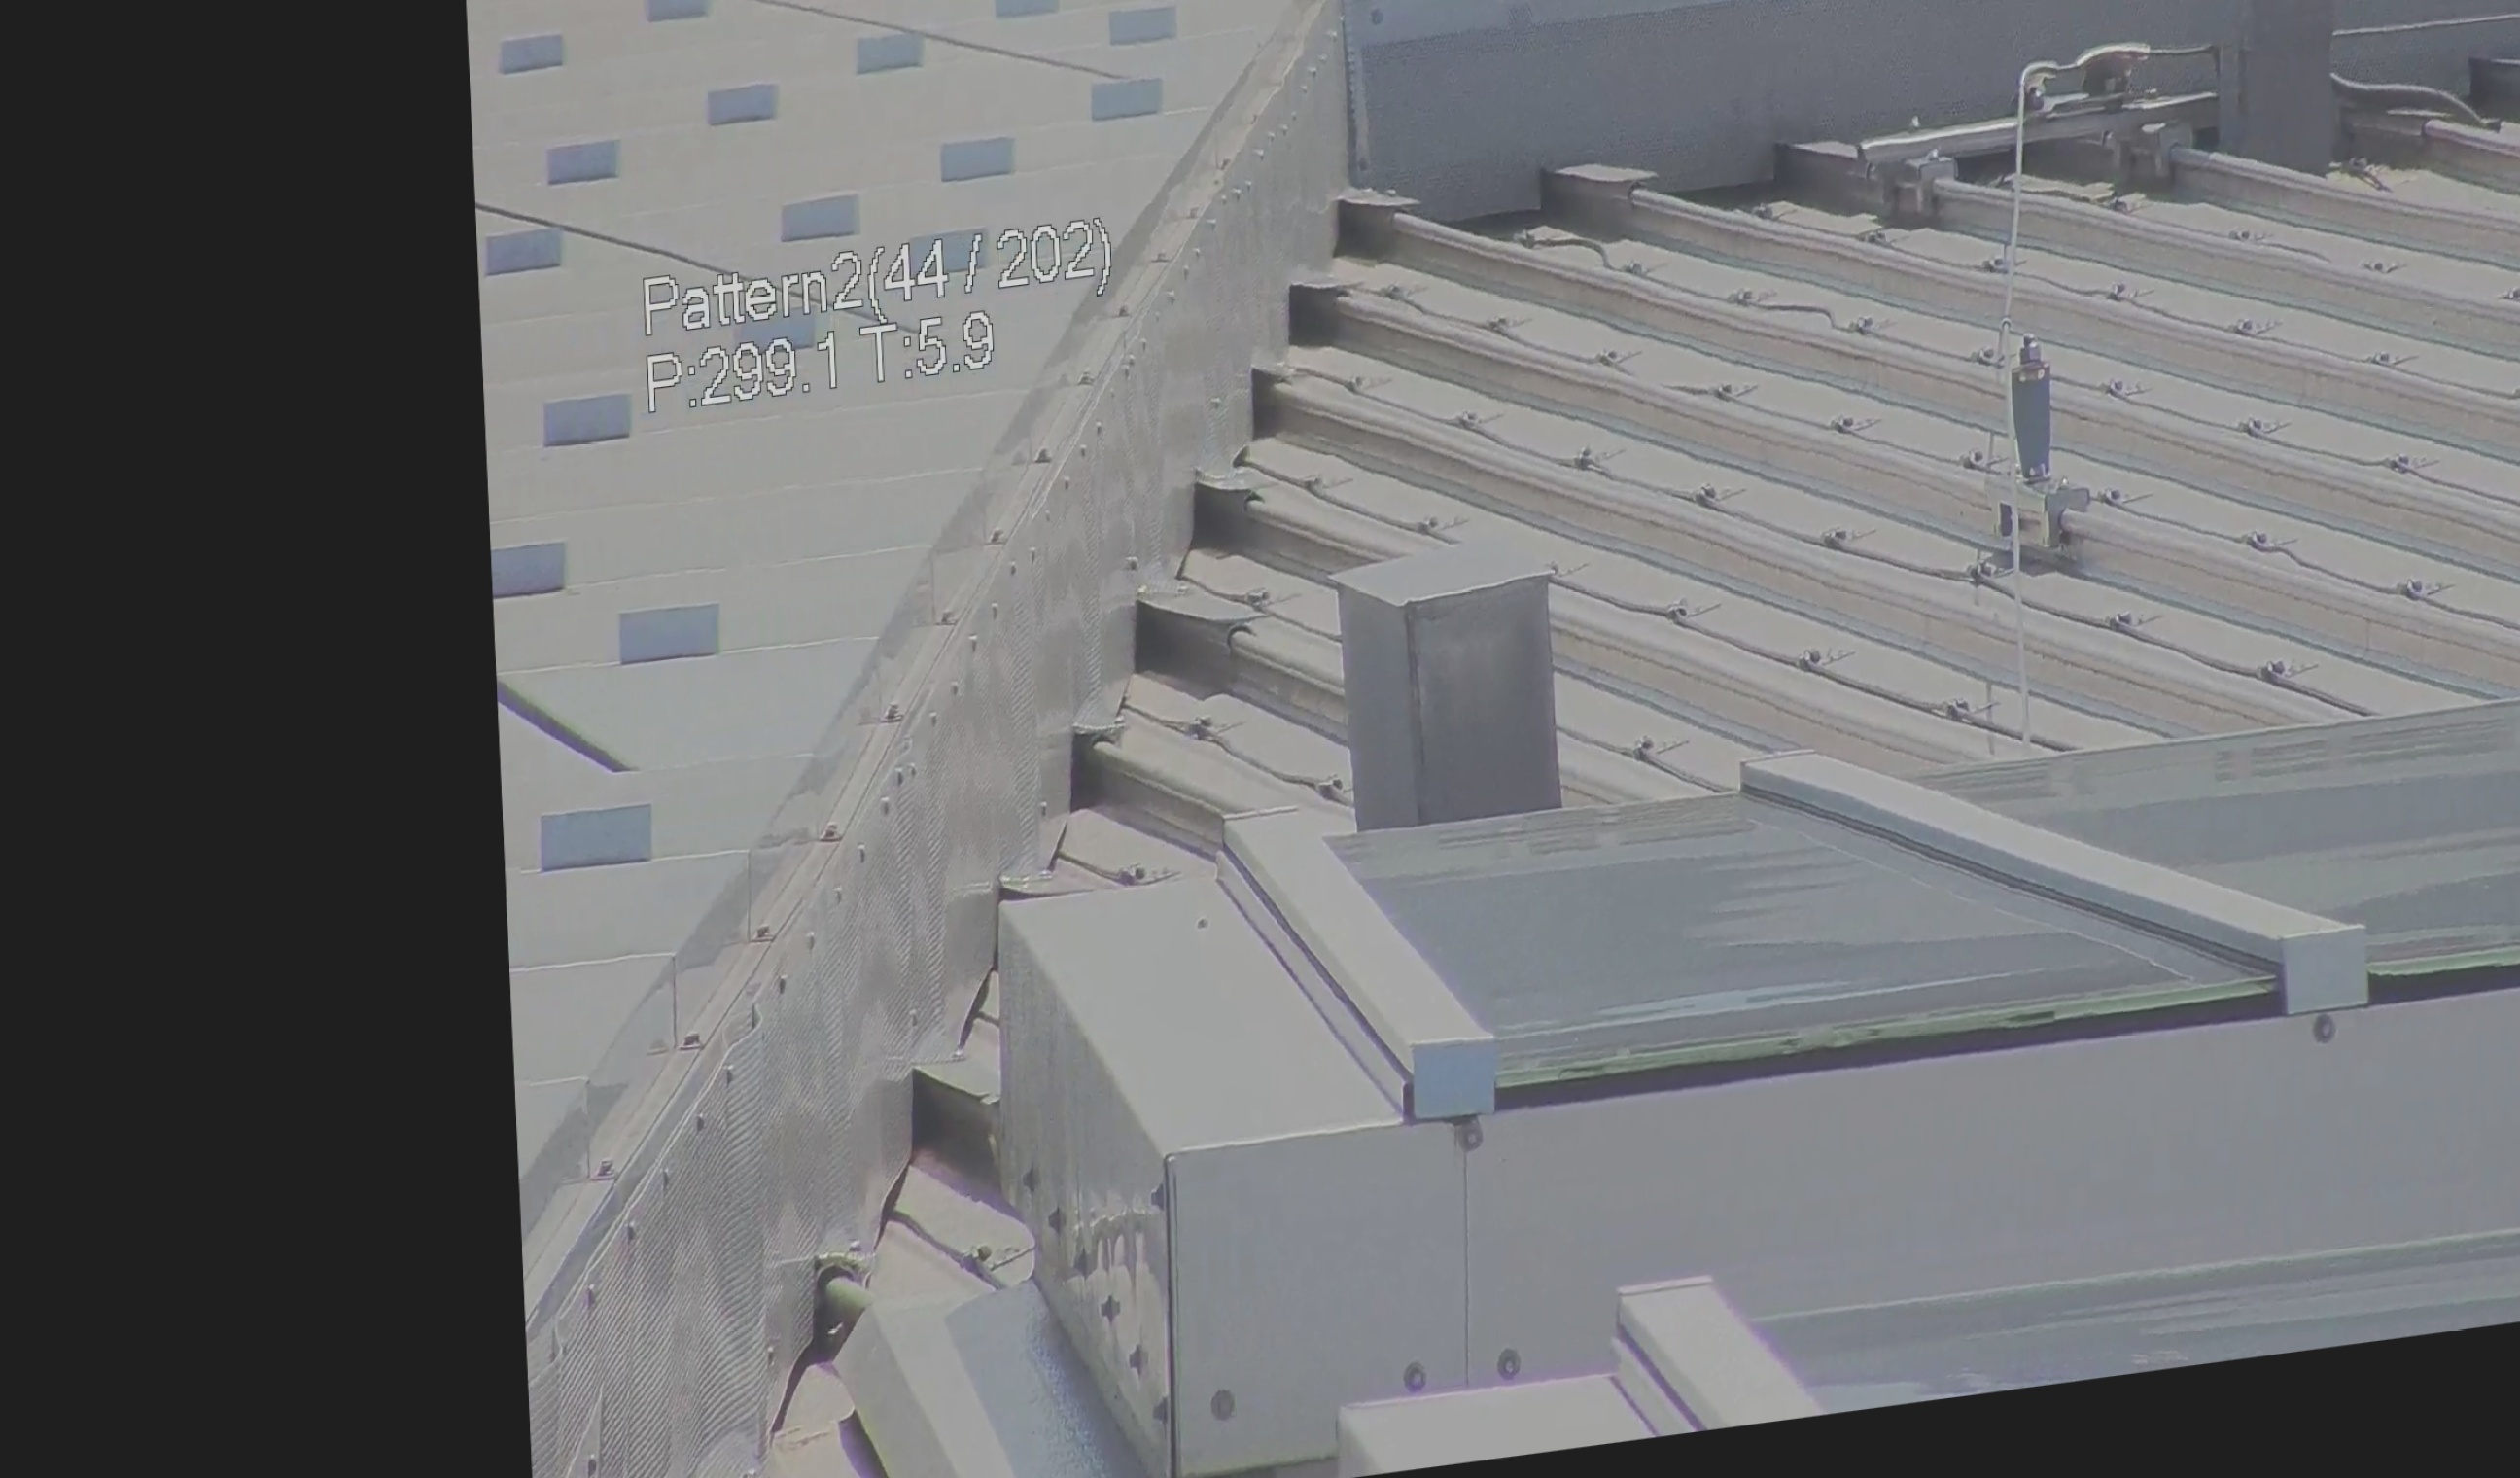Other: (751, 1230, 893, 1474)
